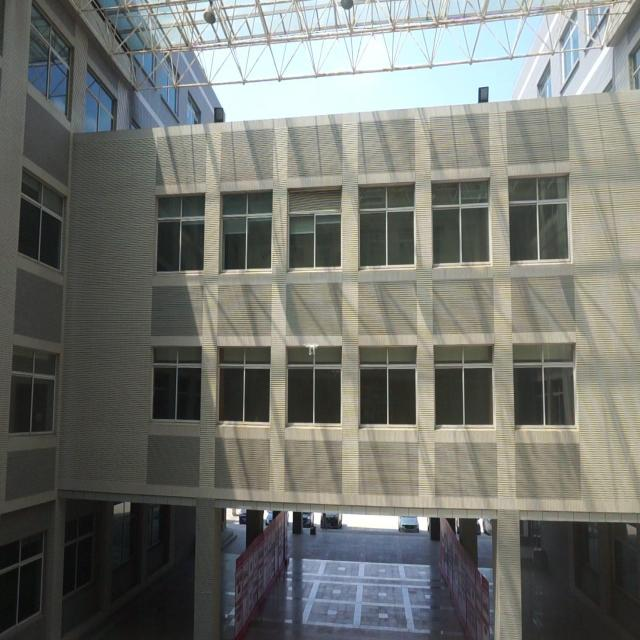drone: (303, 338, 319, 358)
